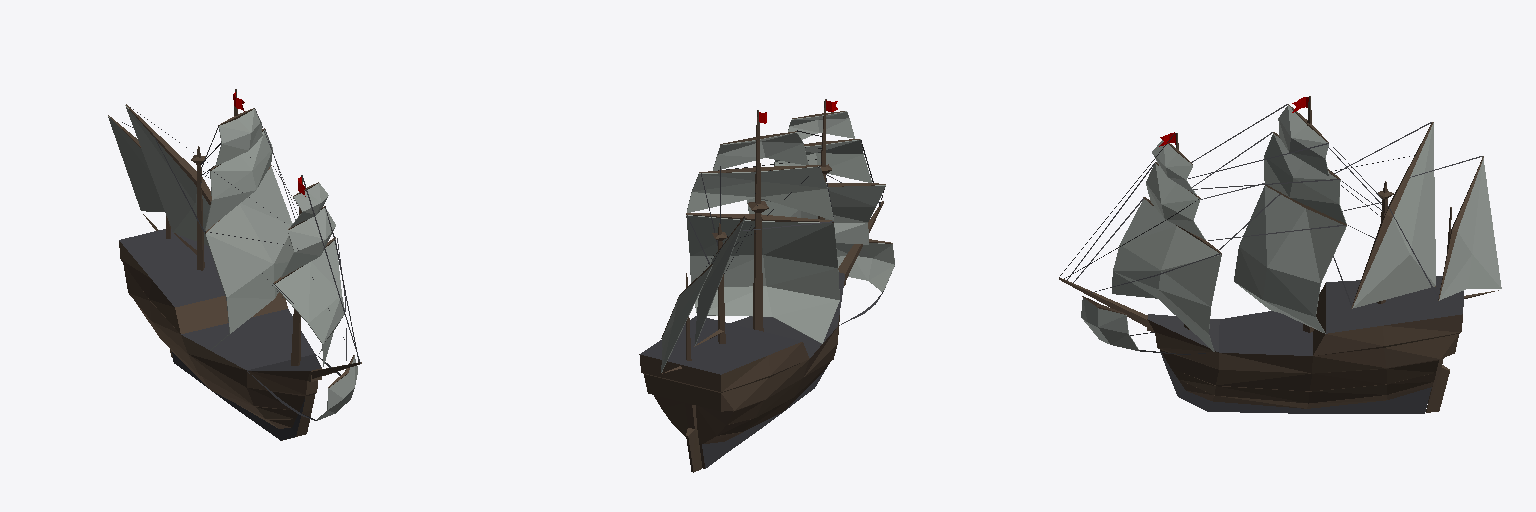
The picture shows the model from 3 angles: view 1: azimuth 30°, elevation 25°; view 2: azimuth 150°, elevation 25°; view 3: azimuth 270°, elevation 25°; orthographic projection.
Parts seen in each view (by area): view 1: ship; view 2: ship; view 3: ship.
Part boxes in pixels (x1,y1,x2,y2): ship: (108, 89, 361, 440); ship: (639, 99, 894, 472); ship: (1059, 96, 1501, 413).
Bounding box in the file's own units: 3.01 × 7.64 × 9.75.
1 materials, 1 textured.